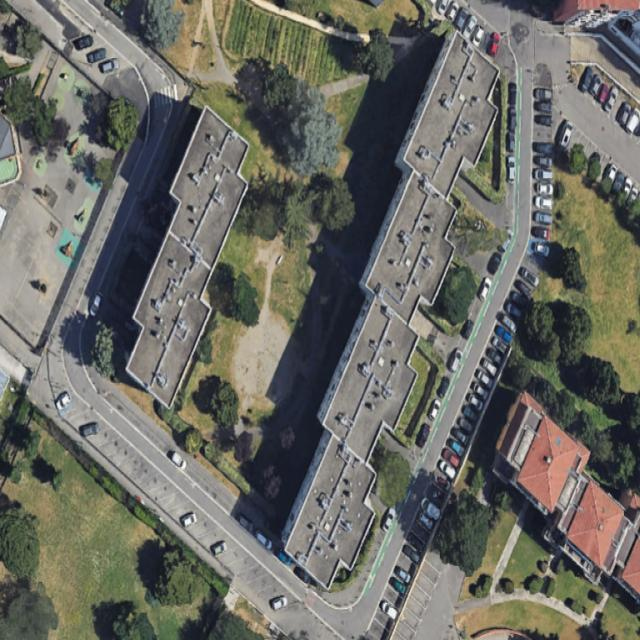immeuble: (110, 104, 265, 410), (388, 27, 519, 206), (307, 293, 438, 469), (268, 429, 397, 597), (349, 167, 478, 332)
